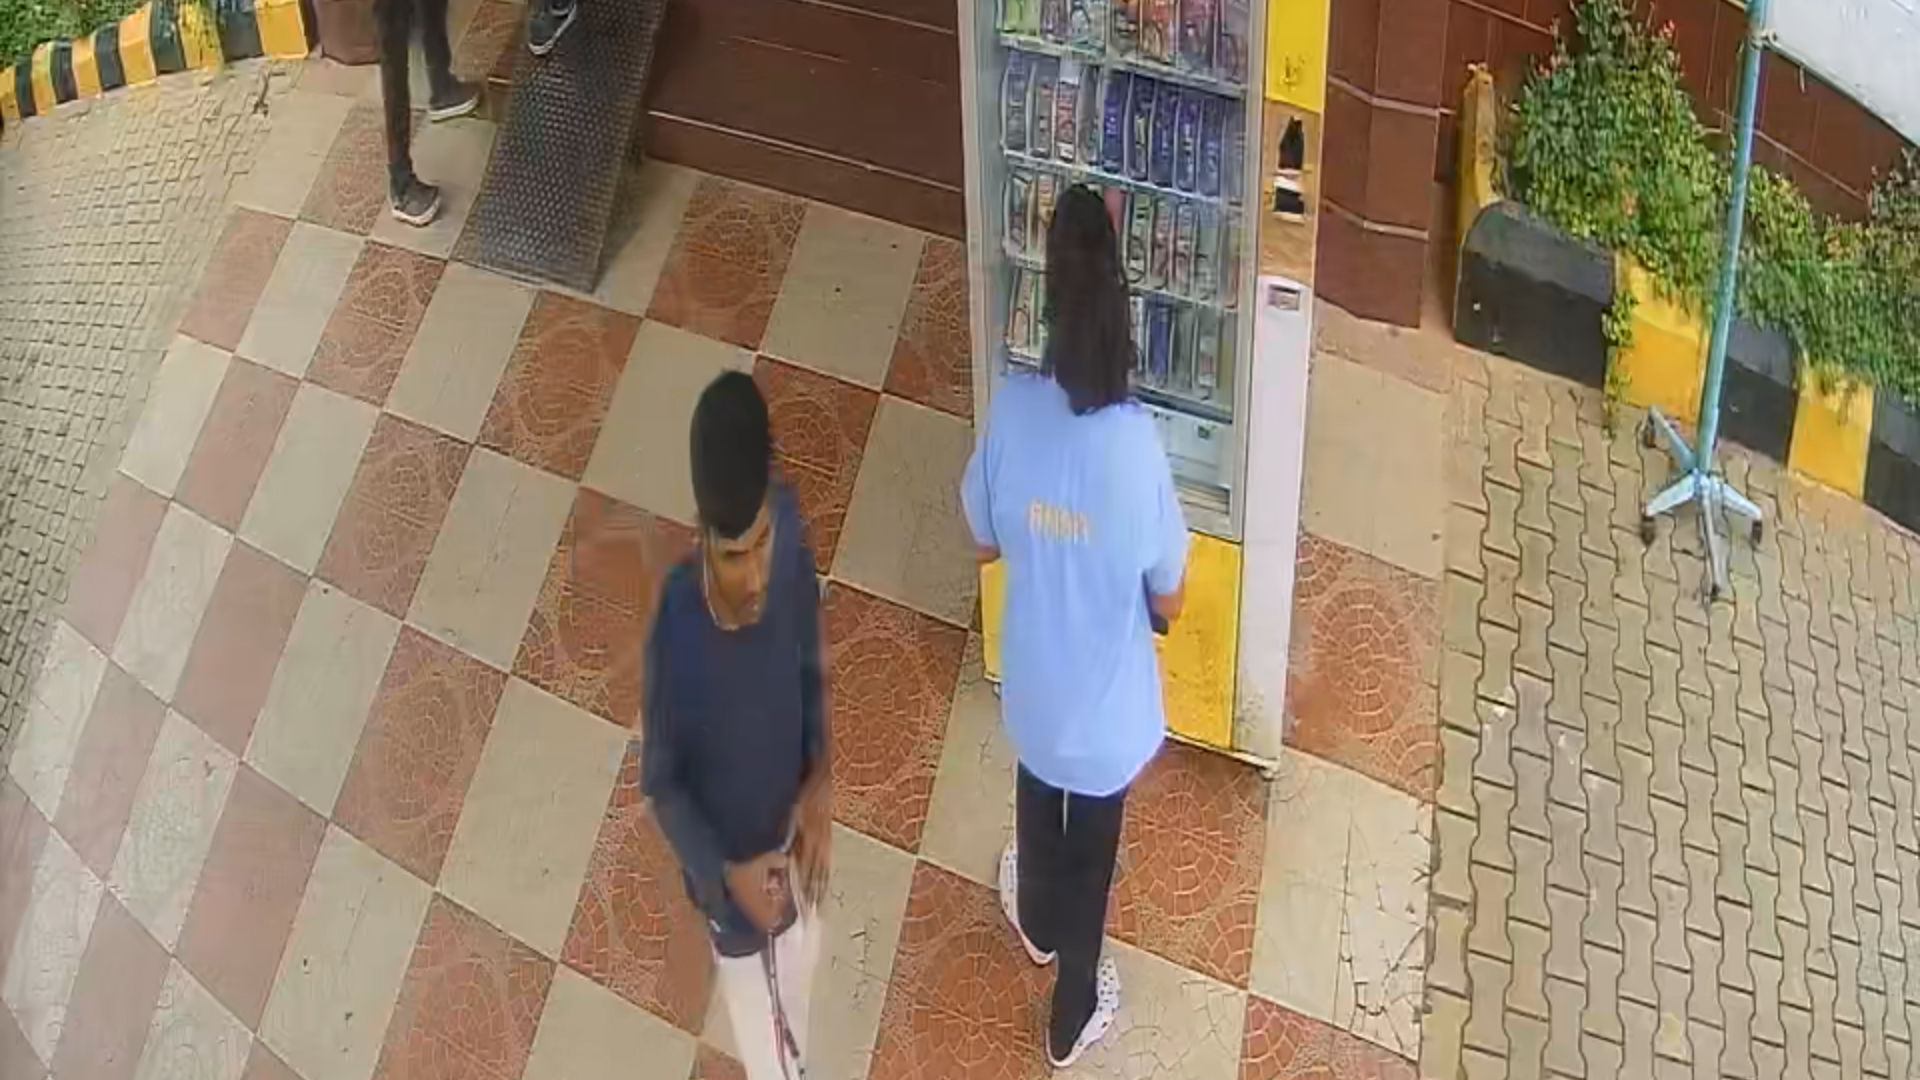intruder: (632, 365, 864, 1080)
